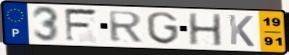3: (31, 5, 61, 45)
F: (63, 7, 101, 44)
G: (145, 10, 182, 46)
H: (187, 12, 225, 47)
K: (227, 13, 256, 48)
R: (107, 10, 145, 43)
